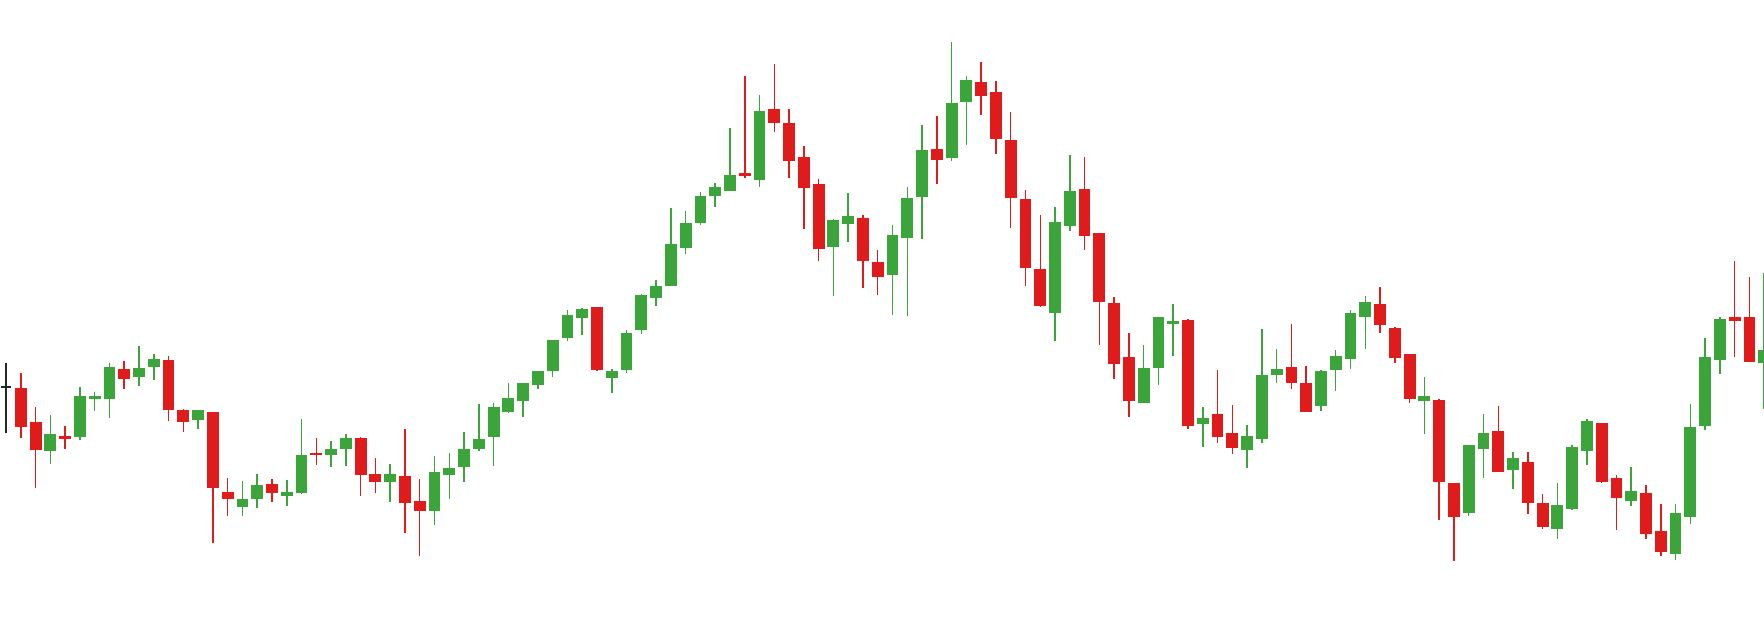buy: (1237, 356, 1480, 568)
